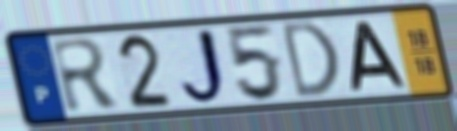2: (115, 30, 176, 113)
5: (220, 22, 288, 103)
A: (348, 19, 410, 93)
D: (278, 18, 343, 103)
J: (177, 26, 233, 109)
R: (47, 35, 124, 116)
